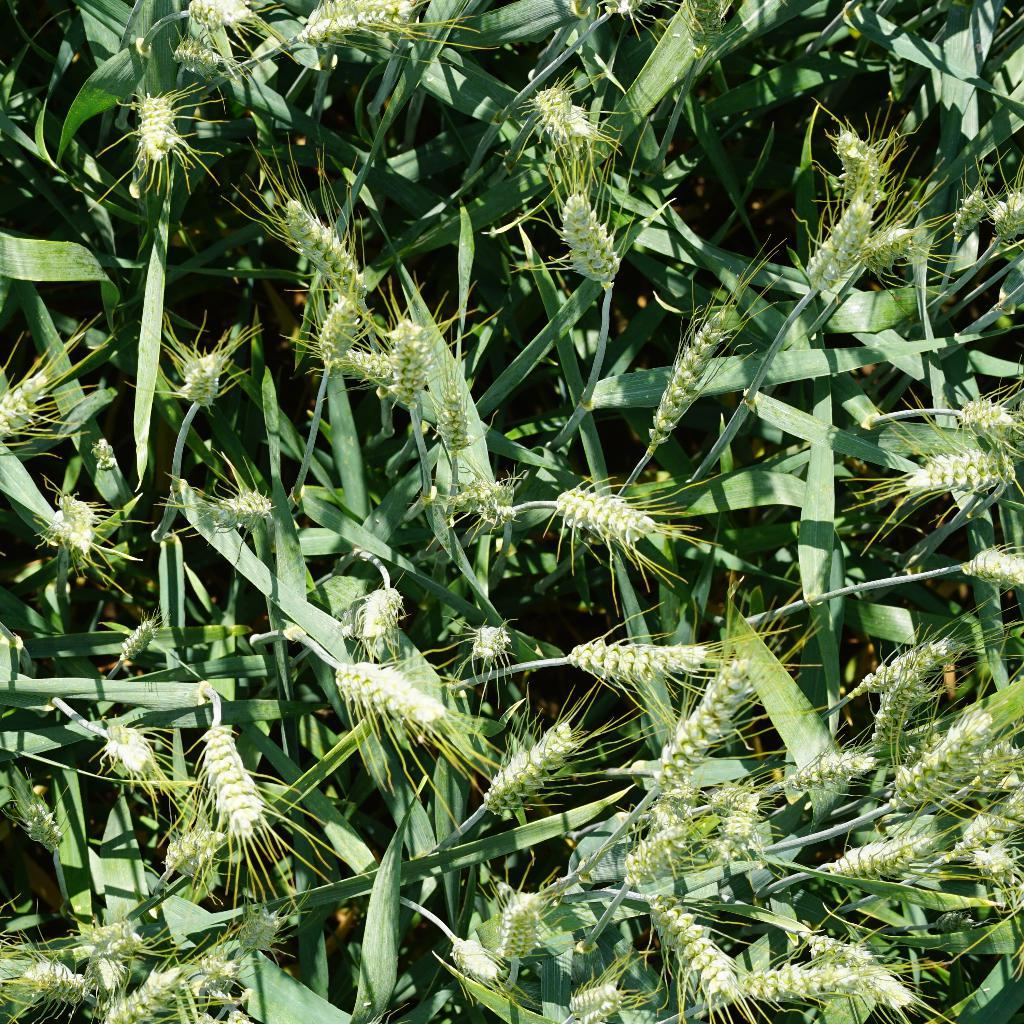0-0: (635, 283, 739, 471), (643, 654, 770, 798), (459, 706, 593, 826), (881, 698, 1000, 822), (253, 186, 370, 296), (538, 613, 714, 686), (314, 639, 445, 736), (195, 712, 284, 843), (650, 892, 747, 1000), (889, 432, 1024, 508), (533, 484, 672, 556), (845, 634, 974, 710), (814, 926, 929, 1011), (550, 183, 636, 288), (811, 115, 896, 206), (747, 946, 864, 1012), (869, 664, 939, 768), (775, 732, 874, 805), (858, 208, 937, 299), (946, 777, 1024, 866), (807, 195, 871, 302), (823, 826, 941, 883), (40, 479, 111, 570), (616, 811, 692, 894), (0, 773, 73, 859), (526, 81, 608, 156), (625, 763, 700, 845), (0, 347, 48, 474), (488, 879, 552, 974), (302, 280, 366, 372), (426, 344, 479, 455), (392, 303, 443, 418), (291, 0, 413, 48), (200, 463, 277, 539), (105, 955, 189, 1024), (451, 464, 520, 537), (344, 565, 410, 641), (171, 331, 232, 413), (124, 89, 184, 169), (945, 384, 1021, 444), (92, 713, 156, 784), (18, 955, 95, 1013), (949, 537, 1024, 596), (940, 174, 993, 254), (433, 926, 507, 983), (187, 938, 249, 1006), (108, 606, 168, 676), (339, 328, 393, 403), (156, 825, 236, 875), (678, 0, 741, 63), (223, 908, 302, 956), (557, 978, 630, 1024), (86, 916, 157, 961), (174, 33, 242, 78), (979, 177, 1024, 244), (961, 839, 1020, 890), (722, 800, 770, 859), (83, 944, 127, 1008), (182, 0, 260, 34), (460, 606, 508, 660), (701, 783, 763, 822), (74, 432, 127, 475), (926, 908, 980, 937)
